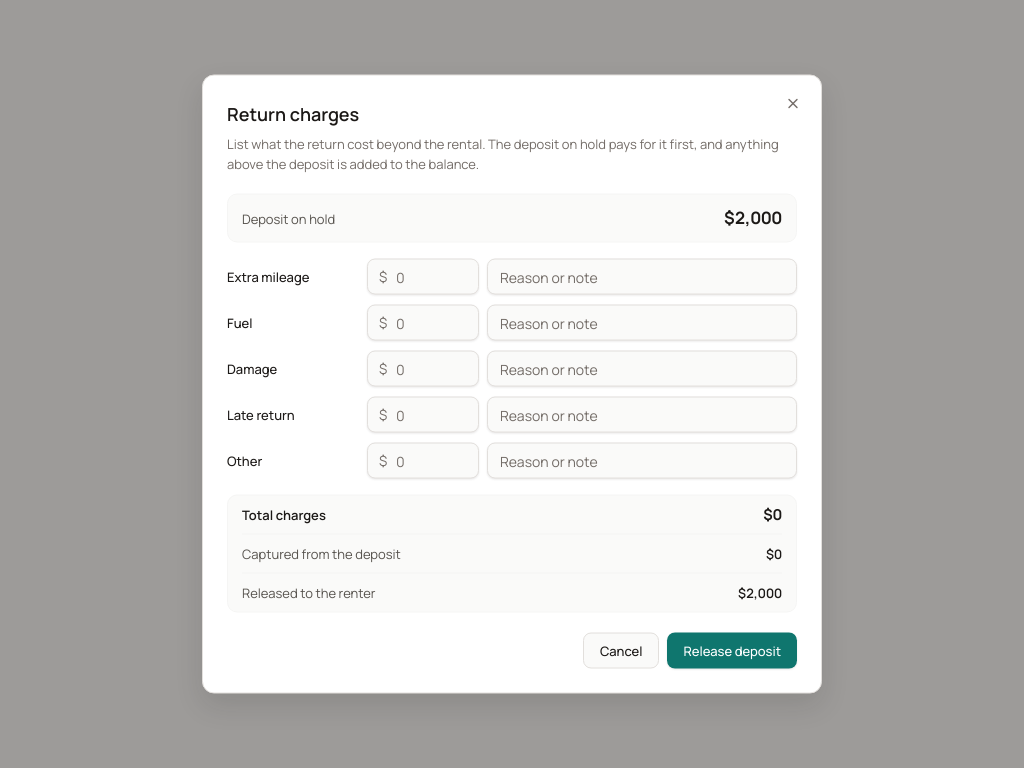
Scenario: ReturnChargesDialog › takes the whole deposit and shows what is still to collect when charges run past it
Type "2150" into the field with placeholder "0" next to "Damage". click: (423,368)
box: 367,350 -> 479,386
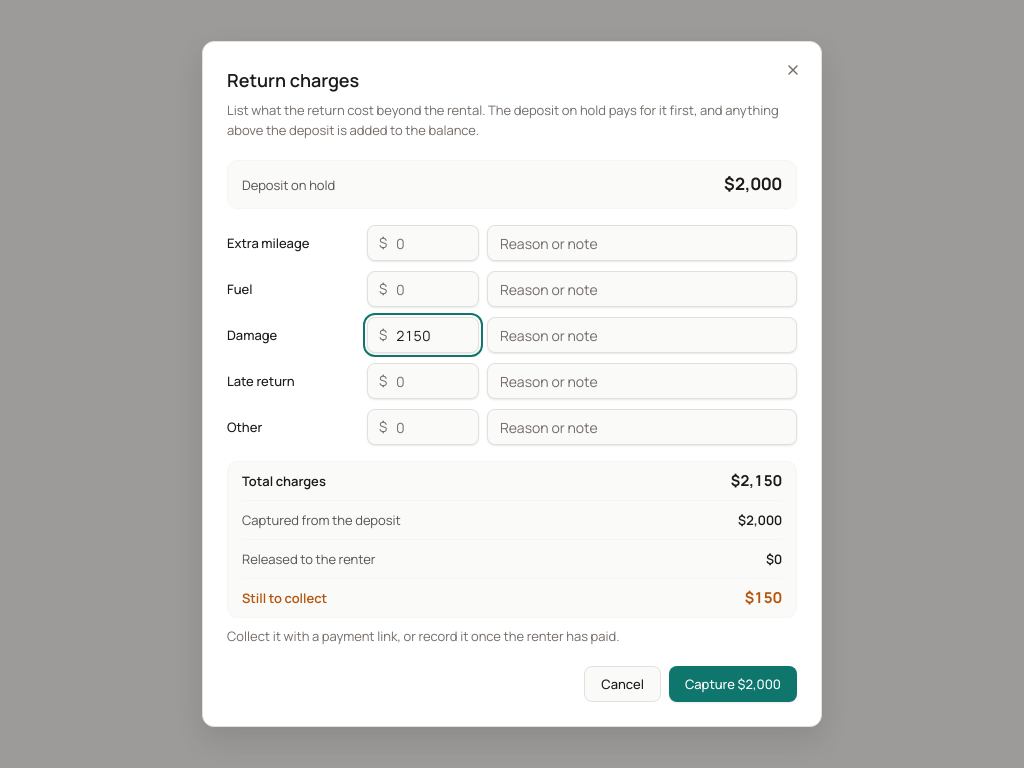
Expected: the button "Capture $2,000" is shown, 669,666 -> 797,702
